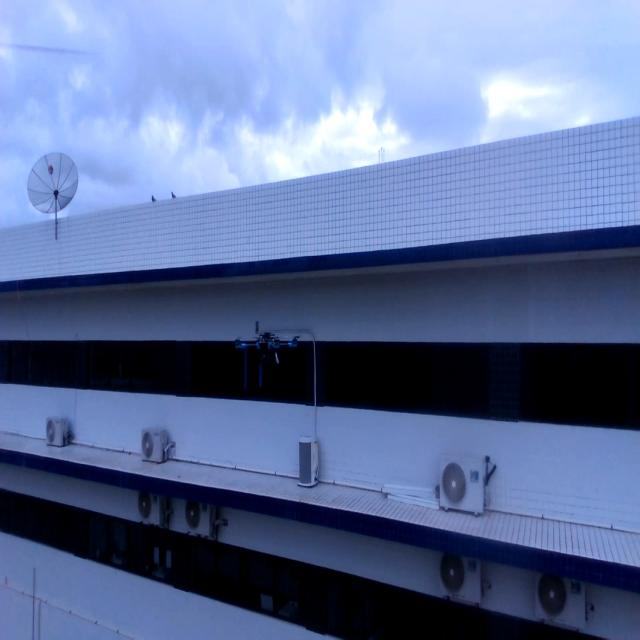-uav-: (223, 324, 309, 397)
